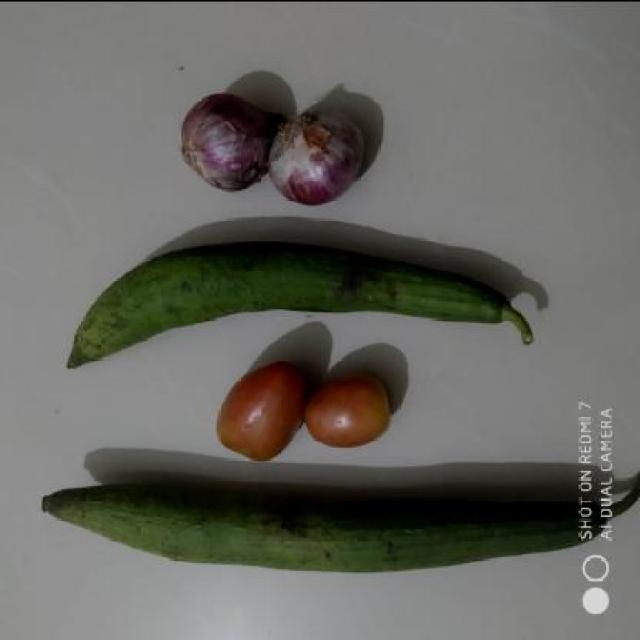Onion: (270, 96, 370, 202), (180, 84, 280, 188)
Sponge Gourd: (24, 463, 584, 577), (54, 232, 540, 356)
Tomato: (209, 354, 309, 457), (300, 364, 411, 454)
